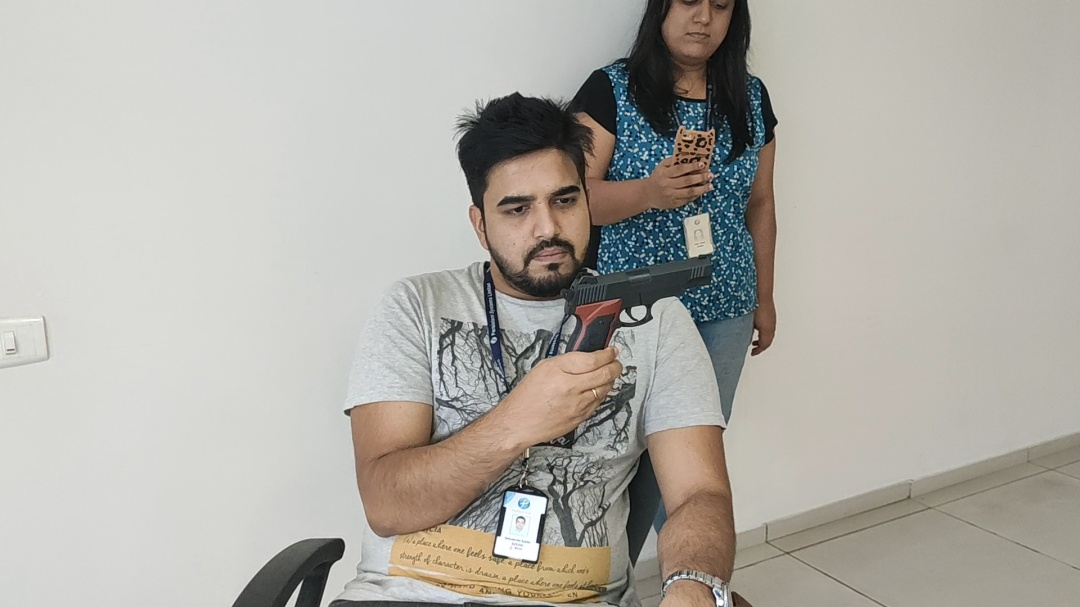gun: (558, 254, 713, 346)
